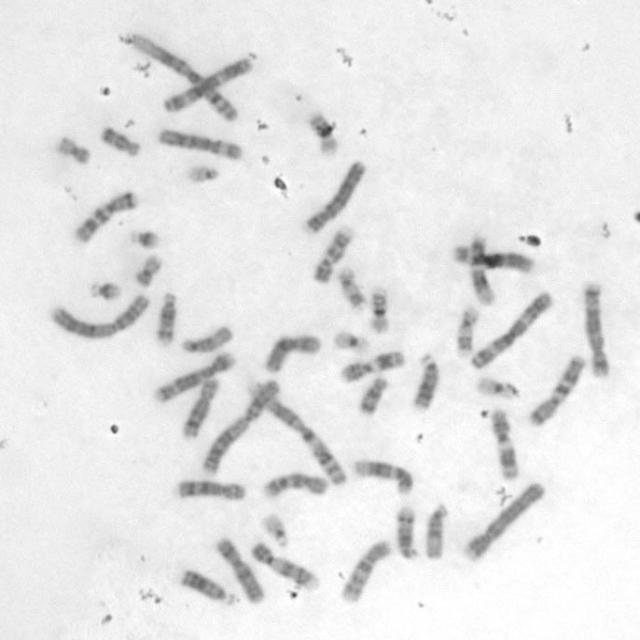A1: (244, 382, 348, 487), (129, 31, 240, 123)
A2: (202, 378, 284, 475), (48, 291, 151, 341)
A3: (466, 289, 554, 372), (162, 50, 260, 114)
B4: (460, 481, 547, 561), (303, 159, 367, 233)
B5: (155, 351, 239, 403), (580, 279, 612, 381)
C10: (339, 538, 391, 604), (263, 471, 328, 499)
C11: (490, 405, 520, 483), (341, 350, 406, 384)
C12: (468, 234, 498, 307), (354, 459, 414, 495)
C6: (157, 128, 244, 162), (452, 243, 532, 276)
C7: (526, 354, 586, 428), (73, 190, 139, 242)
C8: (181, 377, 220, 439), (176, 478, 248, 503)
C9: (248, 540, 321, 590), (311, 223, 356, 286)
D13: (181, 567, 237, 608), (412, 353, 442, 409)
D14: (155, 290, 181, 348), (395, 505, 418, 562)
D15: (180, 324, 235, 355), (422, 502, 450, 561)
E16: (307, 112, 339, 160), (368, 284, 391, 334)
E17: (336, 267, 367, 310), (455, 306, 479, 357)
E18: (98, 124, 143, 157), (356, 375, 390, 415)
F19: (475, 374, 523, 403), (332, 329, 371, 357)
F20: (52, 132, 92, 166), (132, 255, 163, 288)
G21: (127, 225, 162, 252), (86, 279, 122, 303)
G22: (261, 510, 289, 548), (186, 166, 219, 183)
X: (214, 536, 266, 605), (262, 331, 321, 375)
